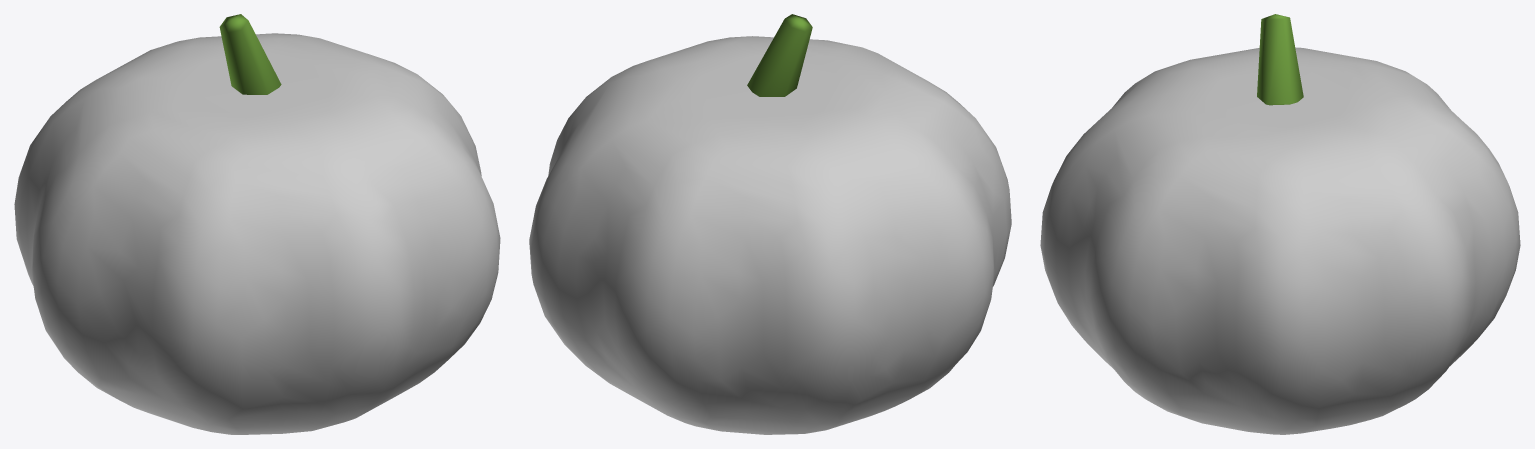
Rendered from HarvestPumpkin.obj.
3 renders of one model, left to right at view 1: azimuth 30°, elevation 25°; view 2: azimuth 150°, elevation 25°; view 3: azimuth 270°, elevation 25°, orthographic. The views are drawn at different scales.
Parts seen in each view (by area): view 1: Pumpkin, Stem; view 2: Pumpkin, Stem; view 3: Pumpkin, Stem.
Boxes of the visible parts, x1,y1,x2,y2 form: Pumpkin: (14, 33, 500, 434); Stem: (219, 14, 281, 94); Pumpkin: (529, 36, 1011, 434); Stem: (747, 14, 812, 96); Pumpkin: (1040, 47, 1520, 434); Stem: (1257, 14, 1303, 105).
Size of the model in its own units: 2 by 1.75 by 2.
